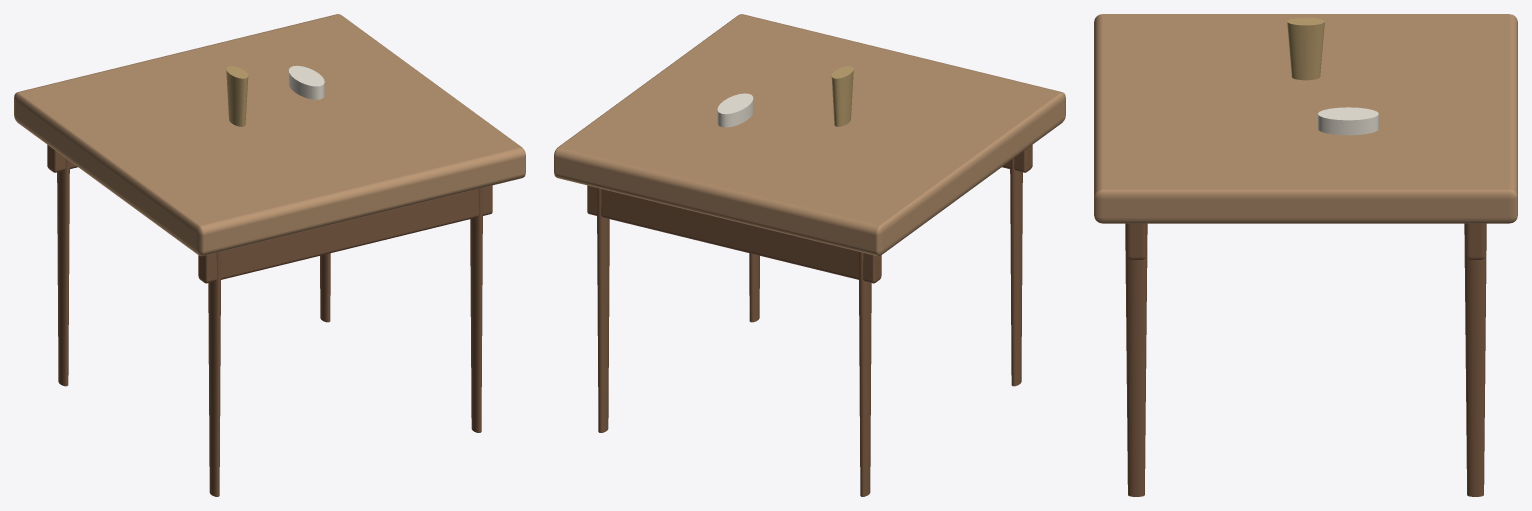
Rendered from table-4-0.glb.
The picture shows the model from 3 angles, left to right: view 1: azimuth 30°, elevation 25°; view 2: azimuth 150°, elevation 25°; view 3: azimuth 270°, elevation 25°; orthographic projection. The views are drawn at different scales.
Parts seen in each view (by area): view 1: upholstery, part (×3); view 2: upholstery, part (×3); view 3: upholstery, part (×3).
Boxes of the visible parts, x1,y1,x2,y2 form: upholstery: [14, 14, 525, 256]; part (×3): [47, 65, 492, 496]; upholstery: [554, 14, 1065, 256]; part (×3): [587, 66, 1032, 496]; upholstery: [1094, 14, 1517, 223]; part (×3): [1125, 17, 1486, 496].
Size of the model in its own units: 1 by 1 by 1.
